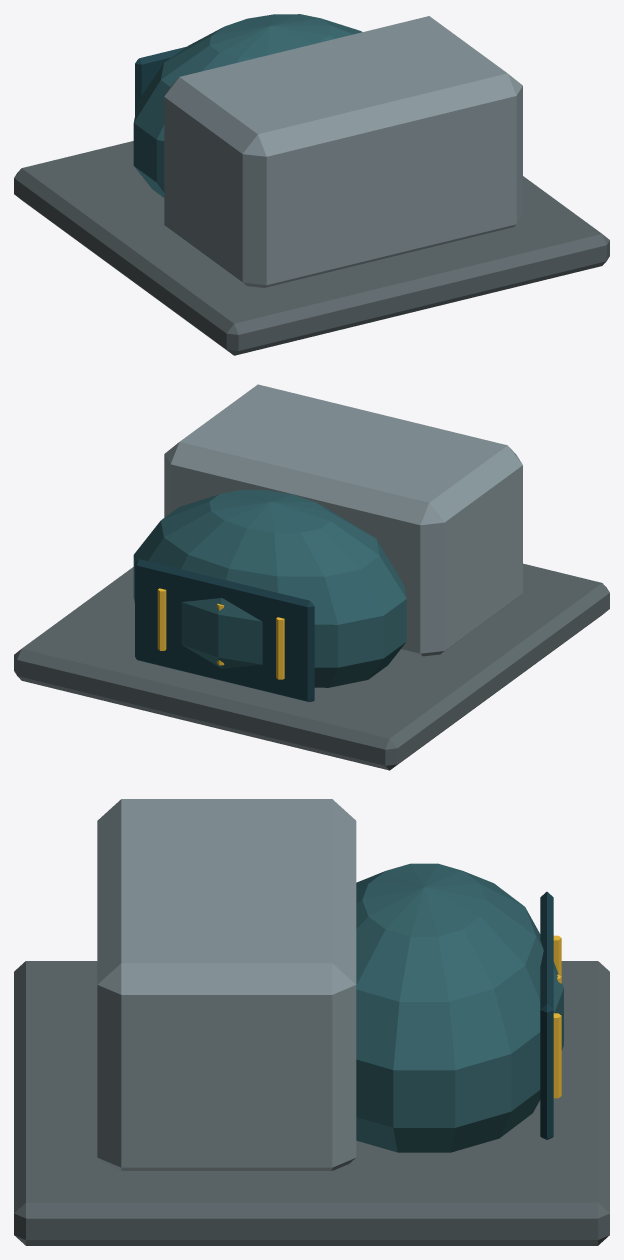
File: MOD_Sonar.fbx
The picture shows the model from 3 angles, top to bottom: view 1: azimuth 30°, elevation 25°; view 2: azimuth 150°, elevation 25°; view 3: azimuth 270°, elevation 25°; orthographic projection. The views are drawn at different scales.
Visible parts, largest first — view 1: SonarCabinet, ModuleDeck, SonarDome, SonarFace; view 2: SonarCabinet, ModuleDeck, SonarDome, SonarFace, HydrophoneMark.002, HydrophoneMark; view 3: SonarCabinet, ModuleDeck, SonarDome, SonarFace, HydrophoneMark.002.
Part boxes in pixels (x1,y1,x2,y2): SonarCabinet: (164, 16, 522, 287); ModuleDeck: (14, 141, 609, 355); SonarDome: (133, 14, 362, 197); SonarFace: (135, 46, 186, 114); SonarCabinet: (164, 384, 522, 656); ModuleDeck: (14, 563, 609, 770); SonarDome: (133, 490, 406, 687); SonarFace: (135, 559, 314, 701); HydrophoneMark.002: (157, 588, 166, 650); HydrophoneMark: (276, 617, 284, 679); SonarCabinet: (97, 799, 356, 1170); ModuleDeck: (14, 961, 609, 1245); SonarDome: (356, 863, 563, 1152); SonarFace: (540, 891, 553, 1139); HydrophoneMark.002: (553, 1013, 561, 1098).
Size of the model in its own units: 175 by 86 by 175.
